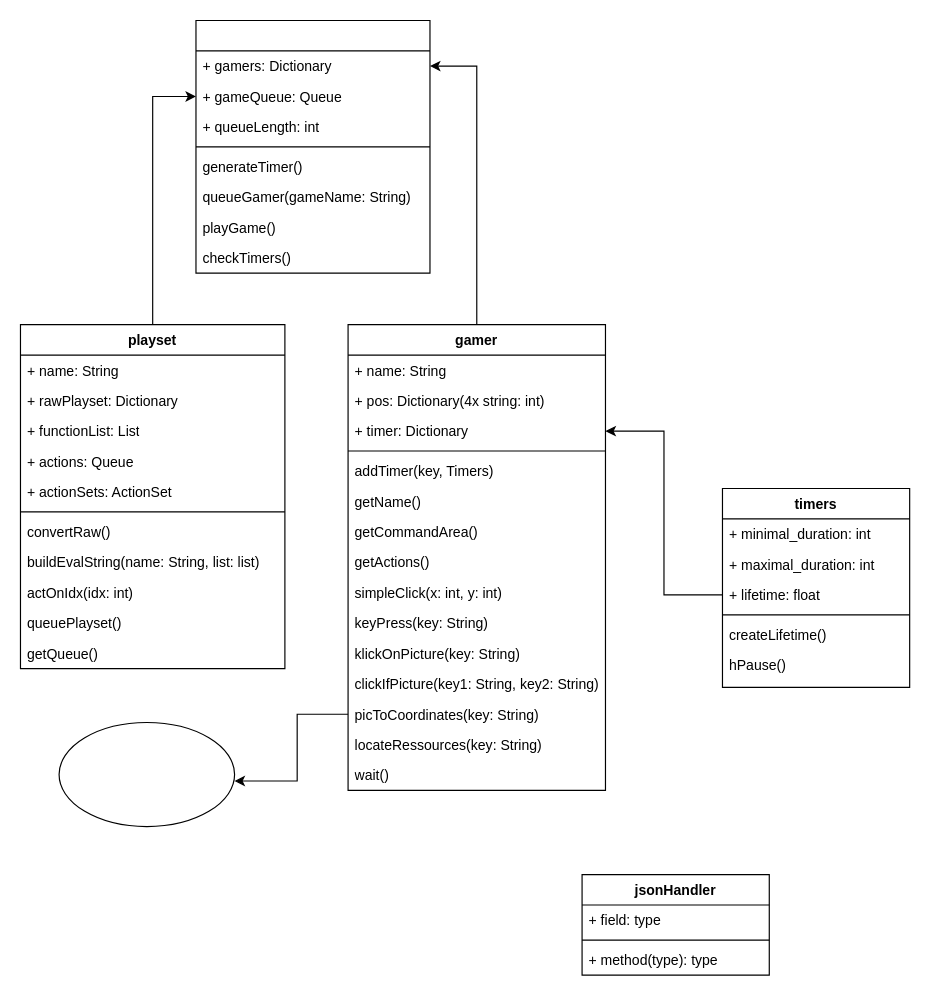
The diagram is 930 pixels wide and 999 high, and some of its shapes have lost their labels. The shapes that lost their labels are listed below. From the top down, each one's box as (x1, y1, x2, y2) in pixels, then its label:
(195, 19, 430, 273): commander
(58, 721, 235, 827): Ocr(region: Dictionary)
